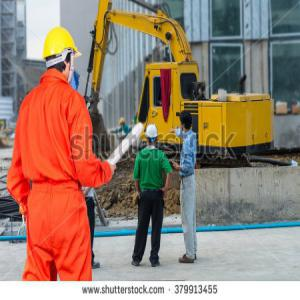none: (180, 111, 193, 133)
white: (147, 125, 159, 147)
yellow: (43, 28, 78, 82), (120, 118, 126, 127)
